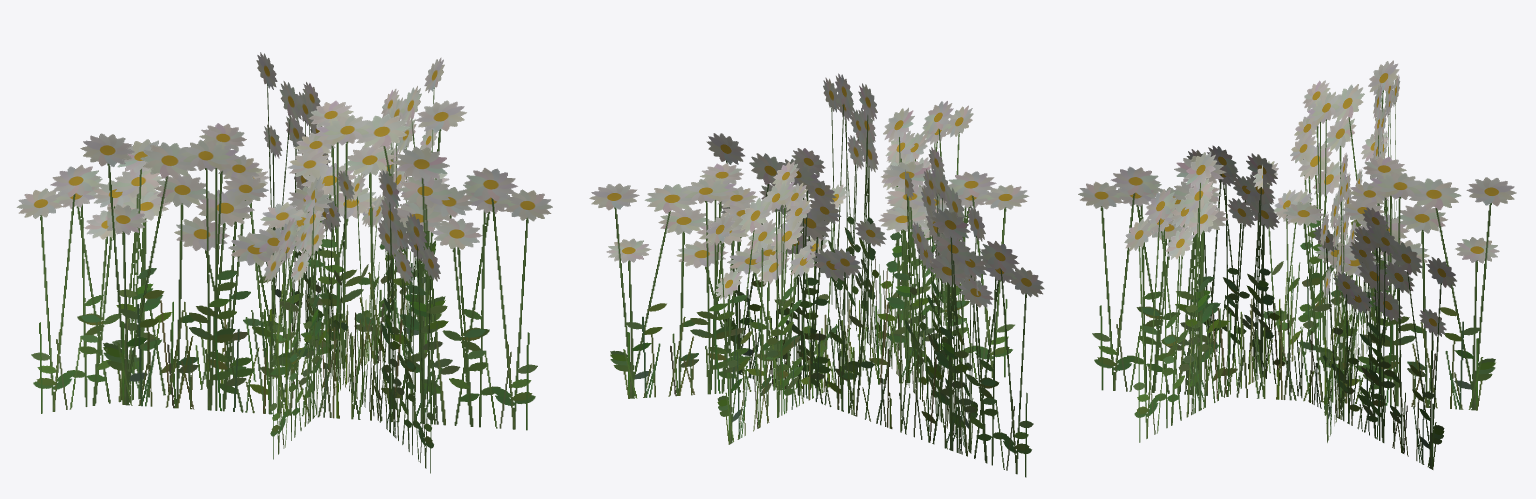
File: Flower_3_Group_LOD1.gltf
3 renders of one model, left to right at view 1: azimuth 30°, elevation 25°; view 2: azimuth 150°, elevation 25°; view 3: azimuth 270°, elevation 25°, orthographic. The views are drawn at different scales.
Parts seen in each view (by area): view 1: Flower_3_Group_LOD1; view 2: Flower_3_Group_LOD1; view 3: Flower_3_Group_LOD1.
Boxes of the visible parts, x1,y1,x2,y2 form: Flower_3_Group_LOD1: (16, 52, 552, 473); Flower_3_Group_LOD1: (589, 73, 1044, 477); Flower_3_Group_LOD1: (1078, 60, 1516, 469).
Bounding box in the file's own units: 0.7876 × 0.4878 × 0.7067.
1 material, 1 textured.
